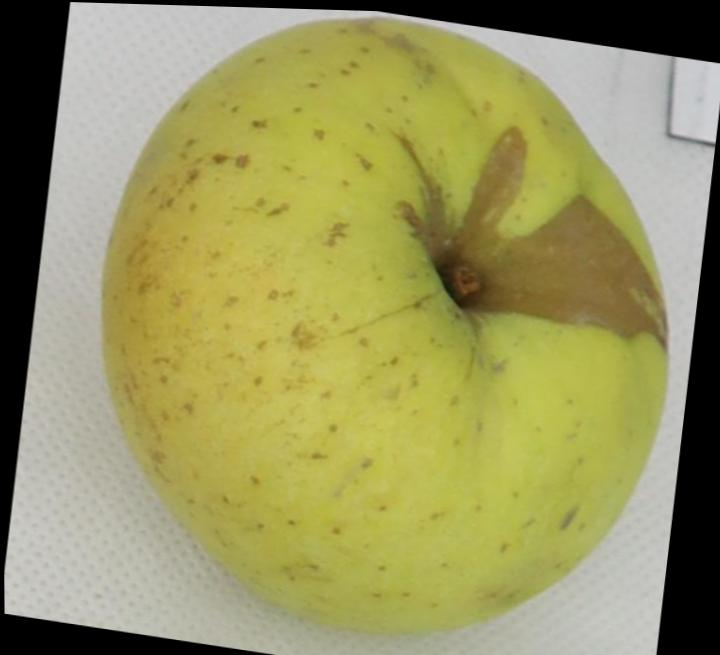apple: (104, 18, 668, 630)
bruise_discoloration: (397, 128, 667, 346)
